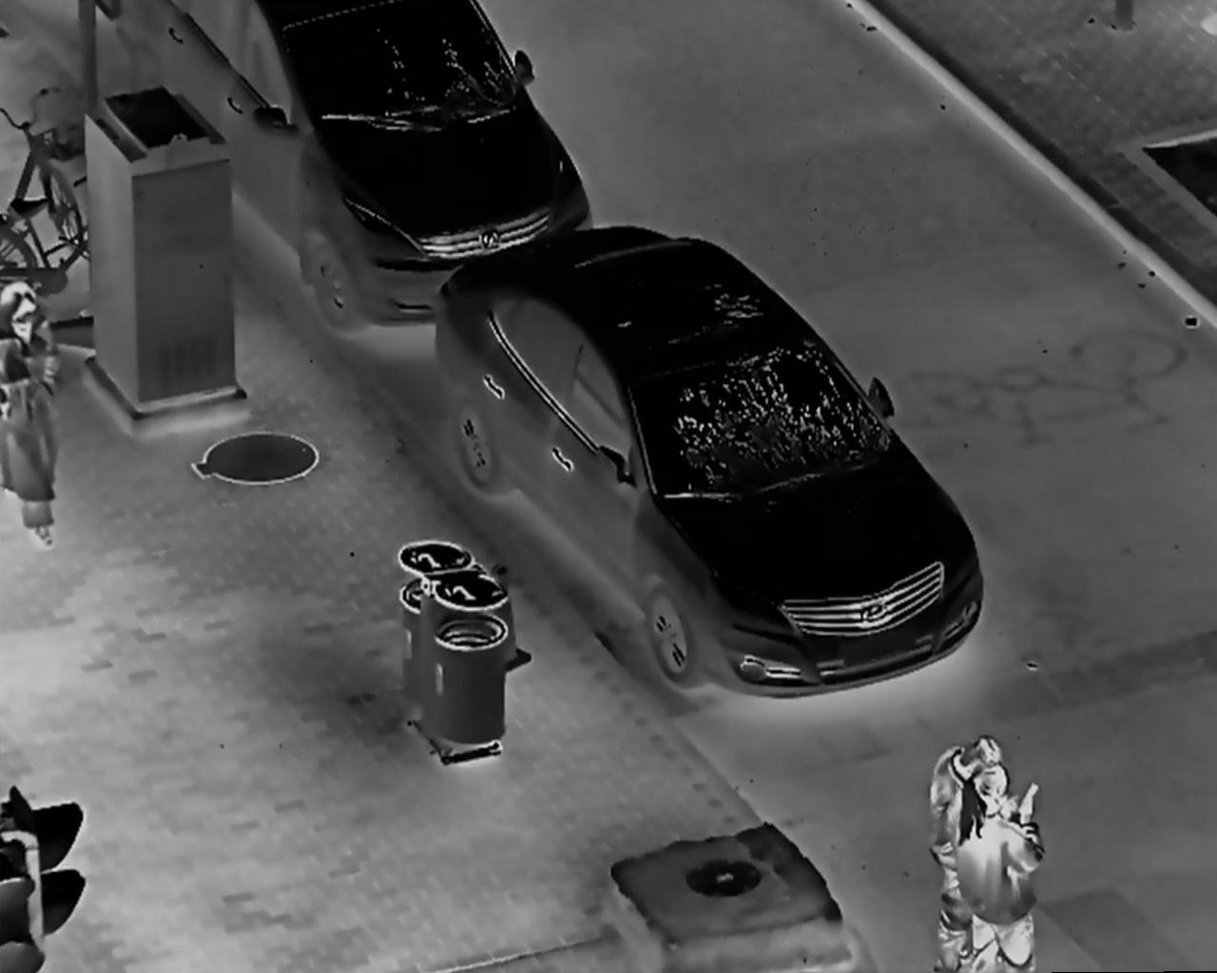person: (957, 763, 1048, 973), (928, 736, 1007, 973)
